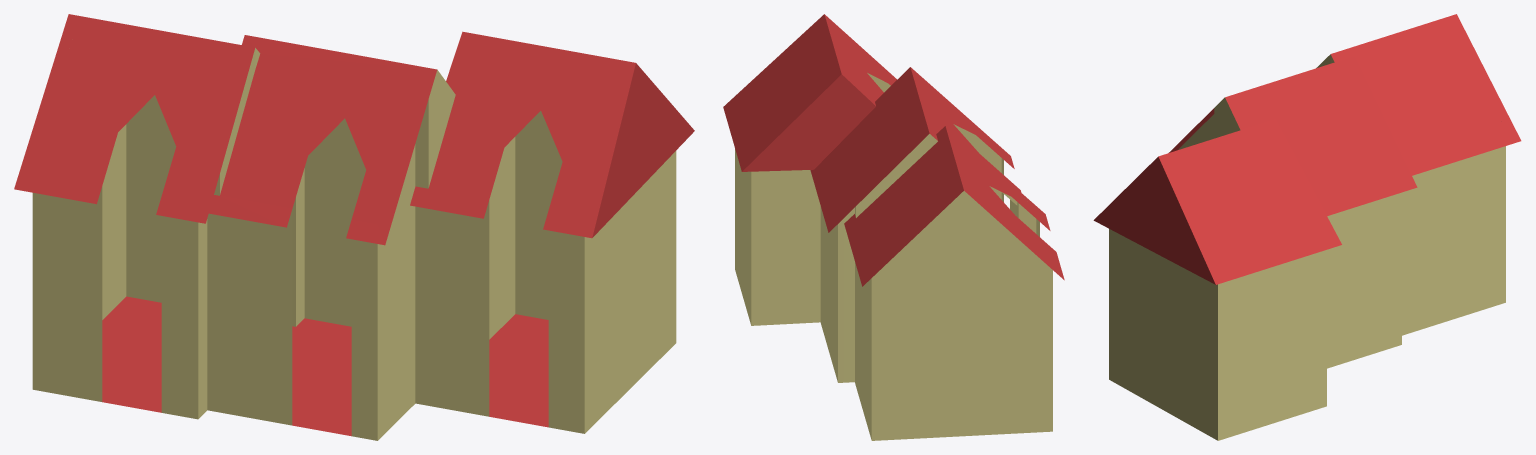
3 views of the same model, side by side, from view 1: azimuth 30°, elevation 25°; view 2: azimuth 150°, elevation 25°; view 3: azimuth 270°, elevation 25° (orthographic). The views are drawn at different scales.
Bounding box in the file's own units: 34.5 × 29.12 × 19.11.
